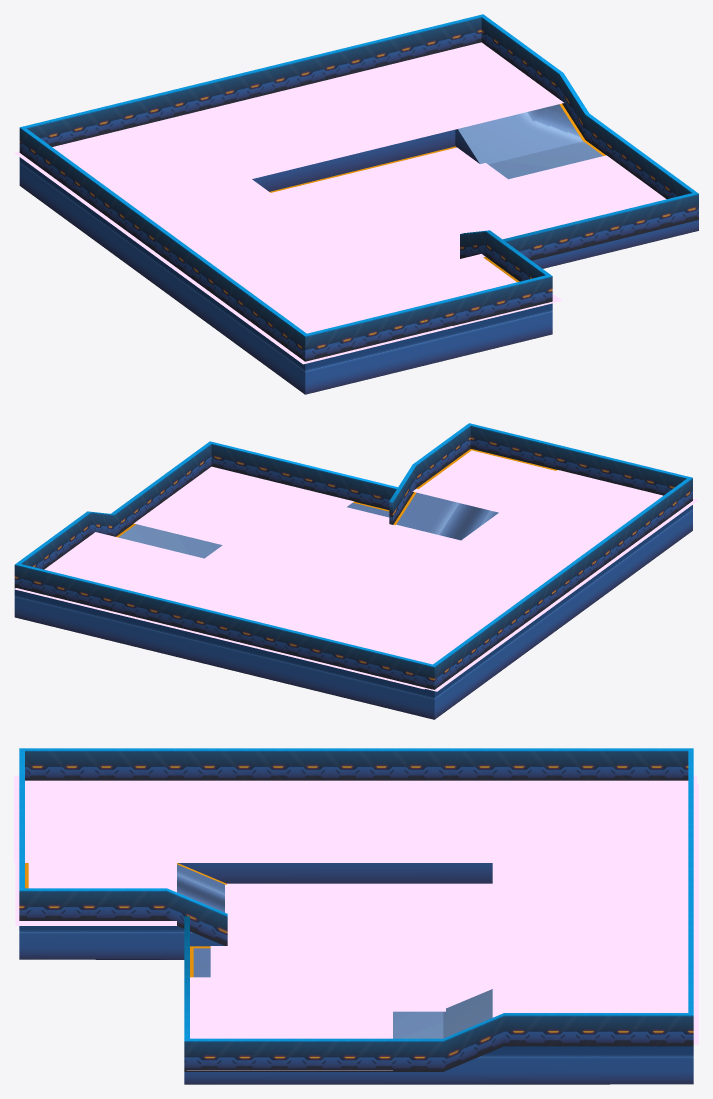
Rendered from Boss_Stage NovaFortress Variant.fbx.
3 renders of one model, top to bottom at view 1: azimuth 30°, elevation 25°; view 2: azimuth 150°, elevation 25°; view 3: azimuth 270°, elevation 25°, orthographic. The views are drawn at different scales.
Visible parts, largest first — view 1: DB_Platform_Cube_Floor.030, Plane.102, DB_Platform_Cube_Floor.028, Plane.103, Plane.101, Plane.105, Plane.104, DB_Platform_Cube_Floor.031; view 2: DB_Platform_Cube_Floor.030, Plane.103, DB_Platform_Cube_Floor.028, Plane.102, Plane.101, Plane.105, Plane.104, DB_Platform_Cube_Floor.031; view 3: DB_Platform_Cube_Floor.030, Plane.102, Plane.103, Plane.101, DB_Platform_Cube_Floor.028, Plane.105, Plane.104.
Part boxes in pixels (<box>): DB_Platform_Cube_Floor.030: <box>19,14,698,361</box>; Plane.102: <box>52,42,563,207</box>; DB_Platform_Cube_Floor.028: <box>19,104,698,394</box>; Plane.103: <box>14,129,453,364</box>; Plane.101: <box>271,147,542,276</box>; Plane.105: <box>450,155,666,237</box>; Plane.104: <box>386,254,562,327</box>; DB_Platform_Cube_Floor.031: <box>270,103,605,282</box>; DB_Platform_Cube_Floor.030: <box>14,423,692,689</box>; Plane.103: <box>300,470,698,691</box>; DB_Platform_Cube_Floor.028: <box>14,492,692,719</box>; Plane.102: <box>14,532,483,689</box>; Plane.101: <box>205,494,460,600</box>; Plane.105: <box>134,466,353,558</box>; Plane.104: <box>412,450,555,512</box>; DB_Platform_Cube_Floor.031: <box>116,449,556,537</box>; DB_Platform_Cube_Floor.030: <box>19,748,693,1071</box>; Plane.102: <box>492,783,698,1044</box>; Plane.103: <box>14,775,696,862</box>; Plane.101: <box>210,883,492,1011</box>; DB_Platform_Cube_Floor.028: <box>19,863,693,1084</box>; Plane.105: <box>187,977,392,1070</box>; Plane.104: <box>15,863,176,925</box>.
Bounding box in the file's own units: 4544 × 545 × 4875.
